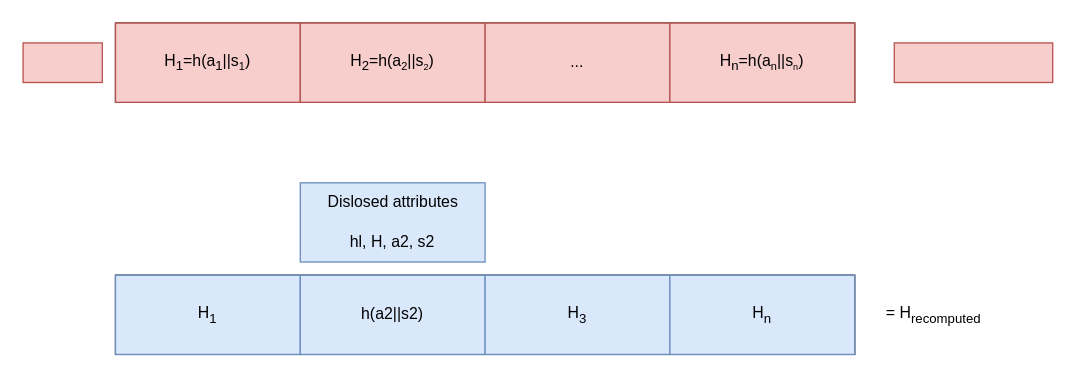
The diagram is 1076 pixels wide and 378 high, and some of its shapes have lost their labels. The centre of each missing label's shape, as x and y in pixels:
h(hl) = H: (x=973, y=62)
hl =: (x=62, y=62)
